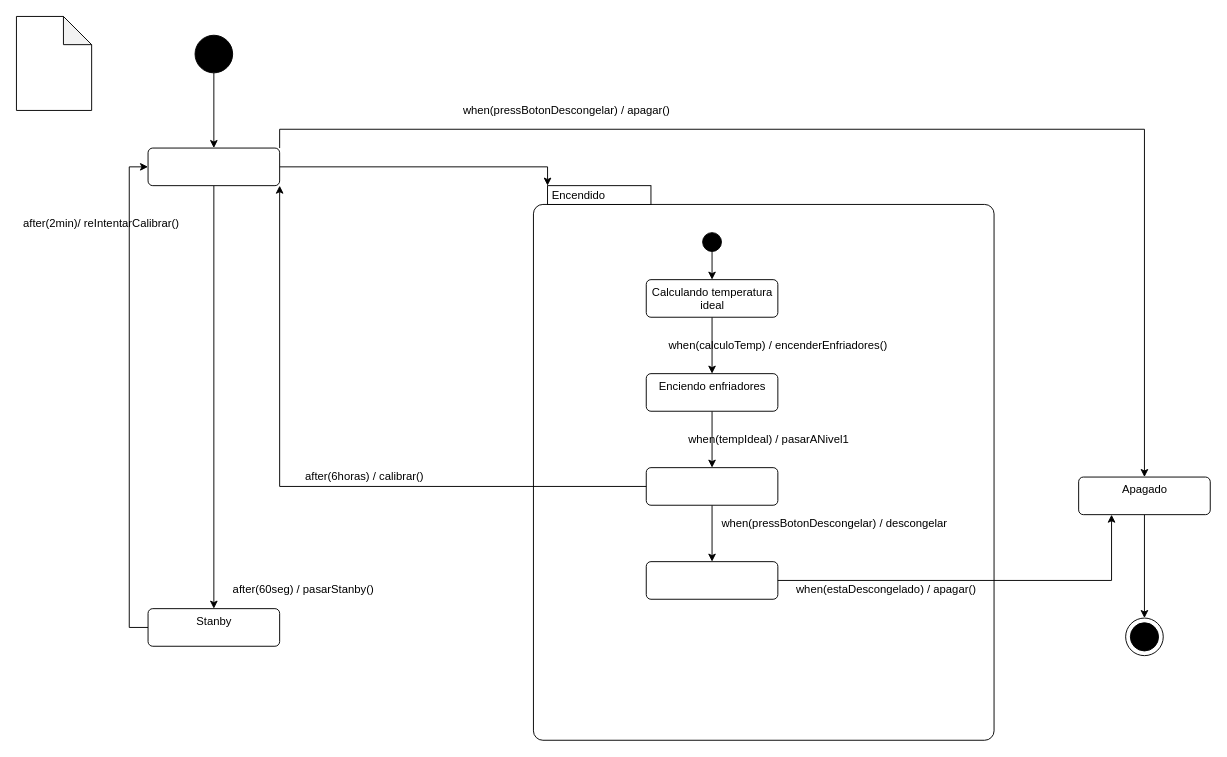
The diagram is 1227 pixels wide and 757 high, and some of its shapes have lost their labels. Here are the shapes that lost their labels. From the top down, the centre of each, then its label:
At (x=213, y=166): "Calibrando Sensores de temperatura".
At (x=711, y=486): "Frio-Nivel-1".
At (x=711, y=580): "Apagando enfriadores".
